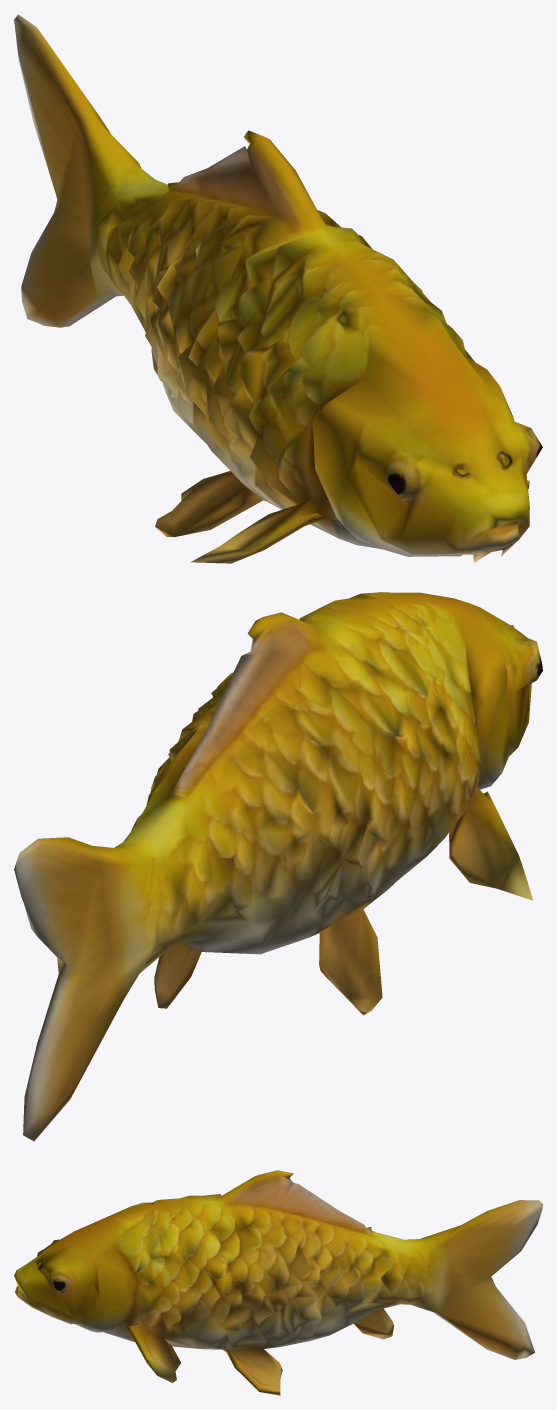
The model's file is fish-gold.glb.
3 views of the same model, one above another, from view 1: azimuth 30°, elevation 25°; view 2: azimuth 150°, elevation 25°; view 3: azimuth 270°, elevation 25° (orthographic). The views are drawn at different scales.
Parts seen in each view (by area): view 1: tripo_node_7bd43baa-d956-4c13-822b-73391a8b3f11; view 2: tripo_node_7bd43baa-d956-4c13-822b-73391a8b3f11; view 3: tripo_node_7bd43baa-d956-4c13-822b-73391a8b3f11.
Boxes of the visible parts, <box> form: tripo_node_7bd43baa-d956-4c13-822b-73391a8b3f11: <box>14,14,542,563</box>; tripo_node_7bd43baa-d956-4c13-822b-73391a8b3f11: <box>14,592,542,1141</box>; tripo_node_7bd43baa-d956-4c13-822b-73391a8b3f11: <box>14,1170,542,1395</box>.
Bounding box in the file's own units: 0.3973 × 0.4149 × 0.999.
1 material, 1 textured.
